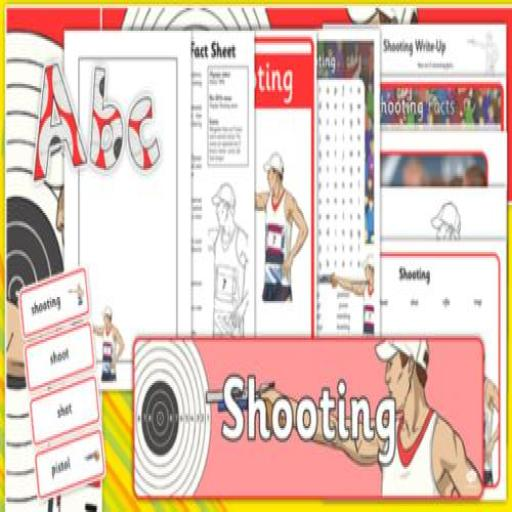shooting: (252, 148, 310, 310), (205, 178, 252, 340), (89, 301, 126, 389)
